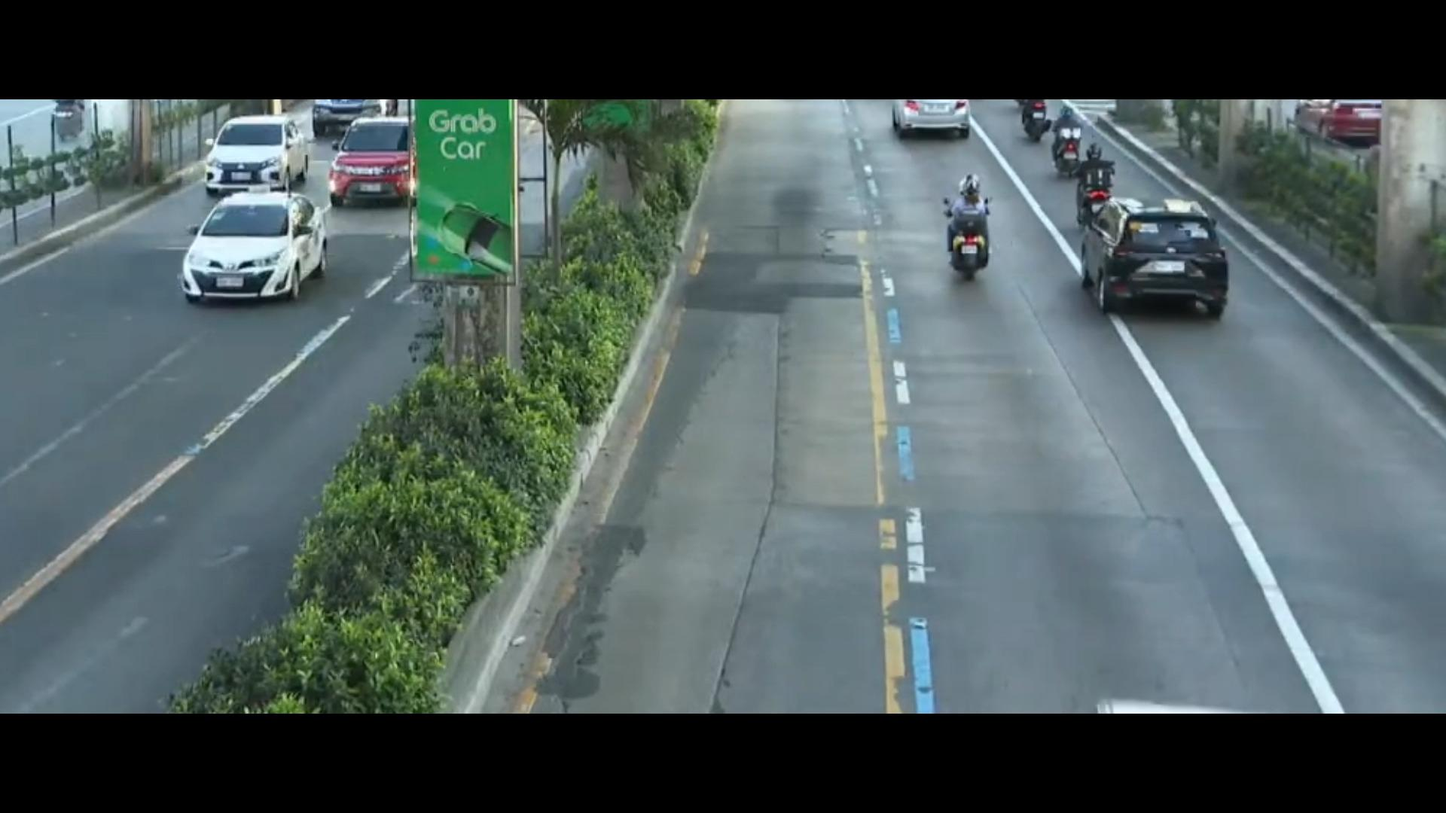Motorcycle: (942, 164, 998, 307), (1073, 138, 1132, 223), (1042, 111, 1102, 179), (1010, 98, 1046, 138)
SUV: (1070, 192, 1244, 333), (328, 111, 415, 218), (311, 99, 390, 134)
Sedan: (172, 187, 332, 318), (197, 102, 313, 200), (880, 96, 991, 128)
